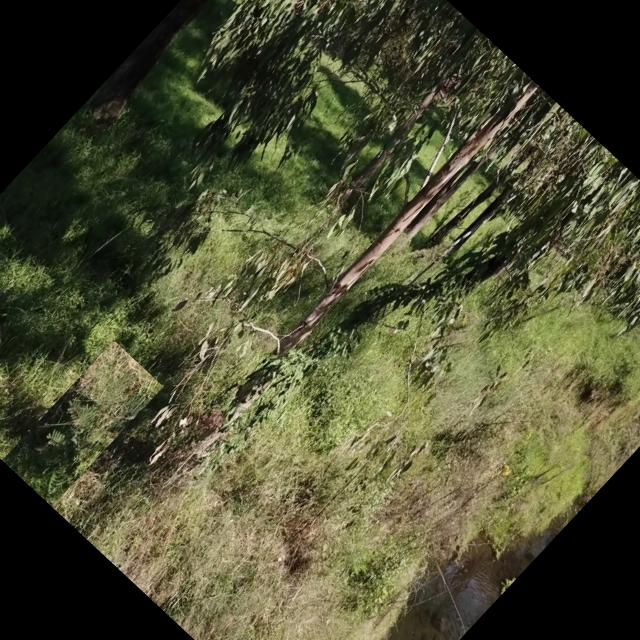Mysore-Thorn-Weed: (2, 341, 163, 507)
